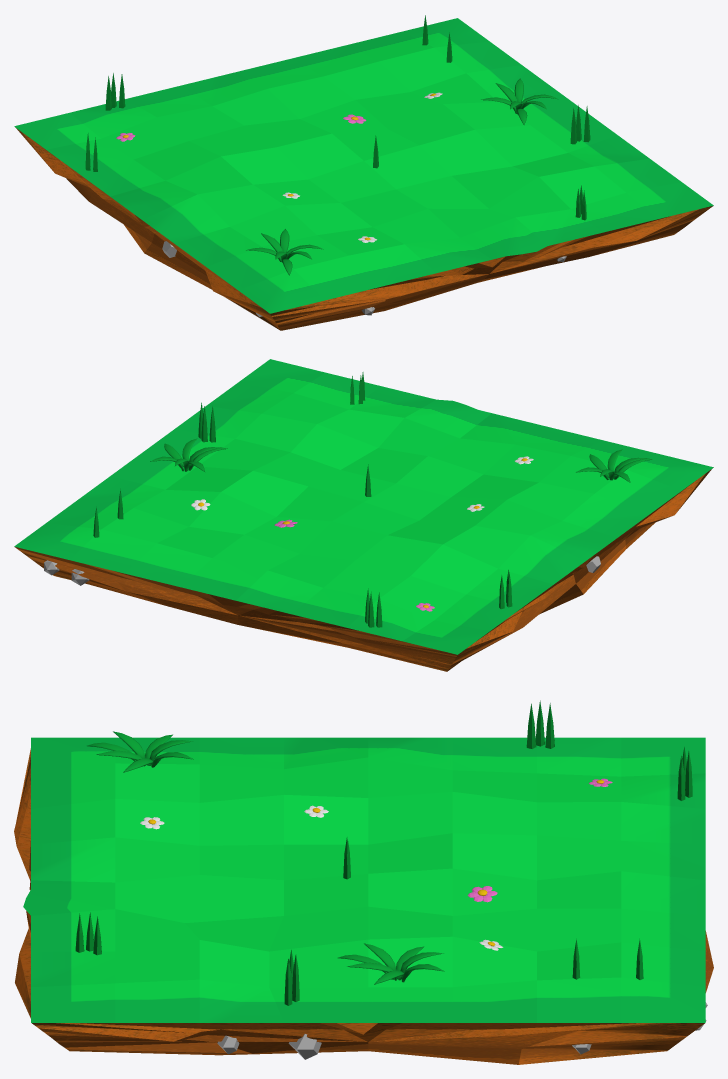
File: grassflowerpinkwhite2.fbx
The picture shows the model from 3 angles, top to bottom: view 1: azimuth 30°, elevation 25°; view 2: azimuth 150°, elevation 25°; view 3: azimuth 270°, elevation 25°; orthographic projection. The views are drawn at different scales.
Parts seen in each view (by area): view 1: pCube1, GrassesGRPpolySurface493, GrassesGRPpolySurface494; view 2: pCube1, GrassesGRPpolySurface494, GrassesGRPpolySurface493; view 3: pCube1, GrassesGRPpolySurface494, GrassesGRPpolySurface493.
Boxes of the visible parts, x1,y1,x2,y2 form: pCube1: (14,18,713,330); GrassesGRPpolySurface493: (246,229,323,275); GrassesGRPpolySurface494: (481,78,558,124); pCube1: (14,359,713,671); GrassesGRPpolySurface494: (150,439,227,471); GrassesGRPpolySurface493: (576,449,652,482); pCube1: (14,737,713,1064); GrassesGRPpolySurface494: (337,943,444,984); GrassesGRPpolySurface493: (87,731,193,772).
Bounding box in the file's own units: 101 × 14.79 × 102.
7 materials, 2 textured.
